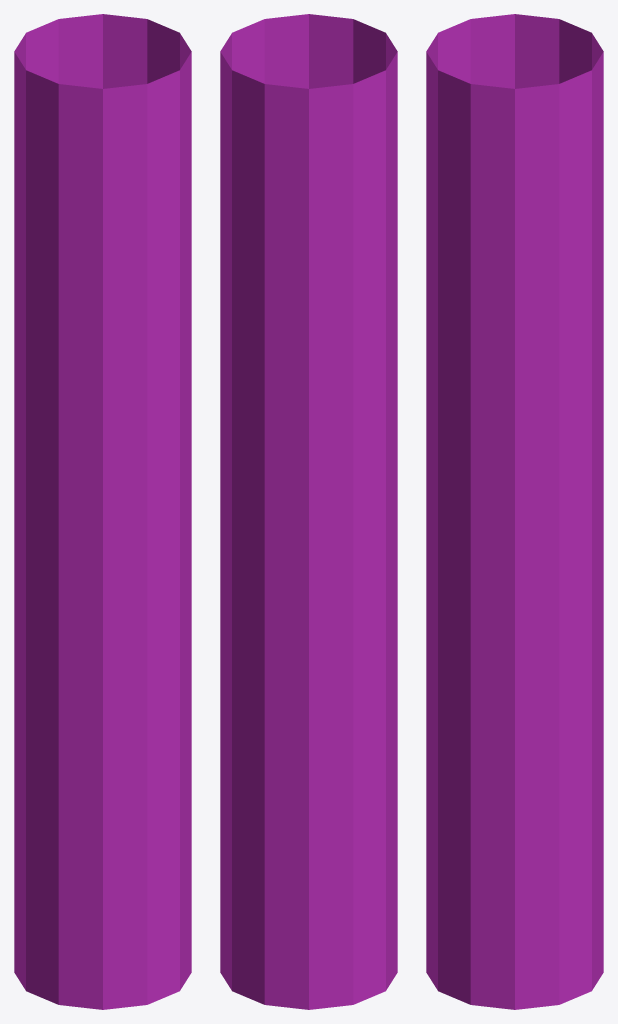
Rendered from Tower Pillar.fbx.
The picture shows the model from 3 angles, left to right: view 1: azimuth 30°, elevation 25°; view 2: azimuth 150°, elevation 25°; view 3: azimuth 270°, elevation 25°; orthographic projection.
Parts seen in each view (by area): view 1: pCylinder5; view 2: pCylinder5; view 3: pCylinder5.
Part boxes in pixels (x1,y1,x2,y2): pCylinder5: [14, 14, 191, 1009]; pCylinder5: [220, 14, 397, 1009]; pCylinder5: [426, 14, 603, 1009].
Bounding box in the file's own units: 5.32 × 30.44 × 5.32.
